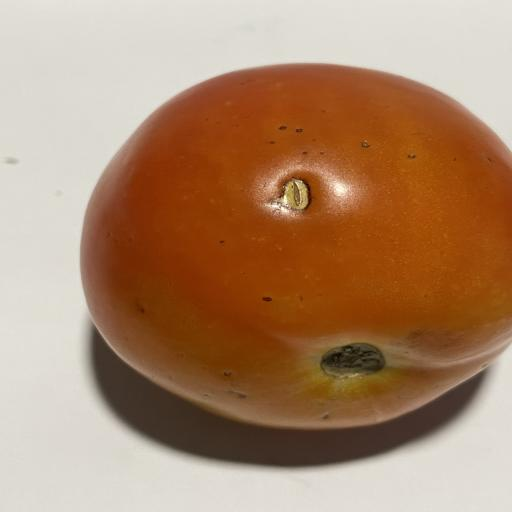unripe: (81, 64, 512, 429)
